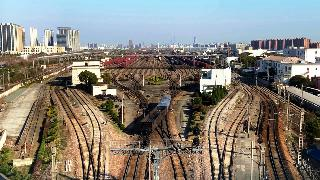train: (139, 93, 173, 133)
